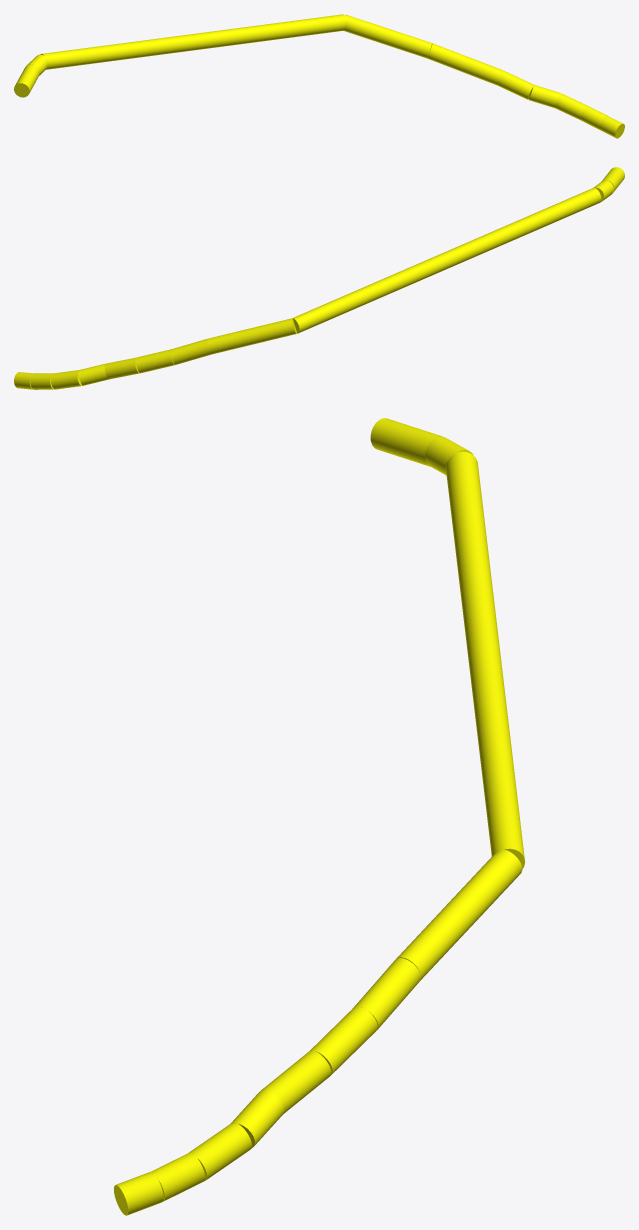
The picture shows the model from 3 angles, top to bottom: view 1: azimuth 30°, elevation 25°; view 2: azimuth 210°, elevation 25°; view 3: azimuth 270°, elevation 25°; orthographic projection. The views are drawn at different scales.
Visible parts, largest first — view 1: Cylinder(Clone) (×11); view 2: Cylinder(Clone) (×8); view 3: Cylinder(Clone) (×10).
Part boxes in pixels (box(x1,y1,x2,y2)): Cylinder(Clone) (×11): box(14, 14, 624, 138); Cylinder(Clone) (×8): box(30, 187, 601, 389); Cylinder(Clone) (×10): box(114, 418, 524, 1215).
Size of the model in its own units: 0.3832 by 0.0953 by 0.1254.
